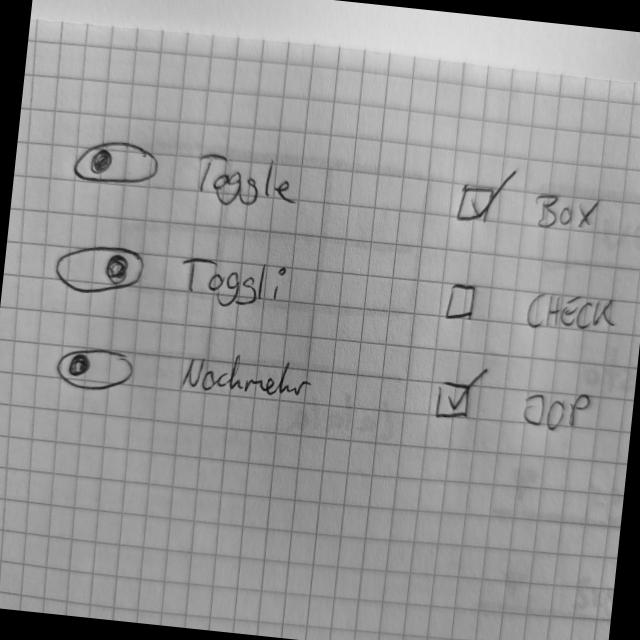checkbox: (432, 358, 598, 439), (439, 276, 622, 342), (455, 162, 606, 238)
label: (177, 342, 317, 408), (174, 250, 296, 316), (189, 146, 302, 216)
toggle: (50, 236, 148, 302), (70, 133, 164, 191), (52, 340, 140, 396)
